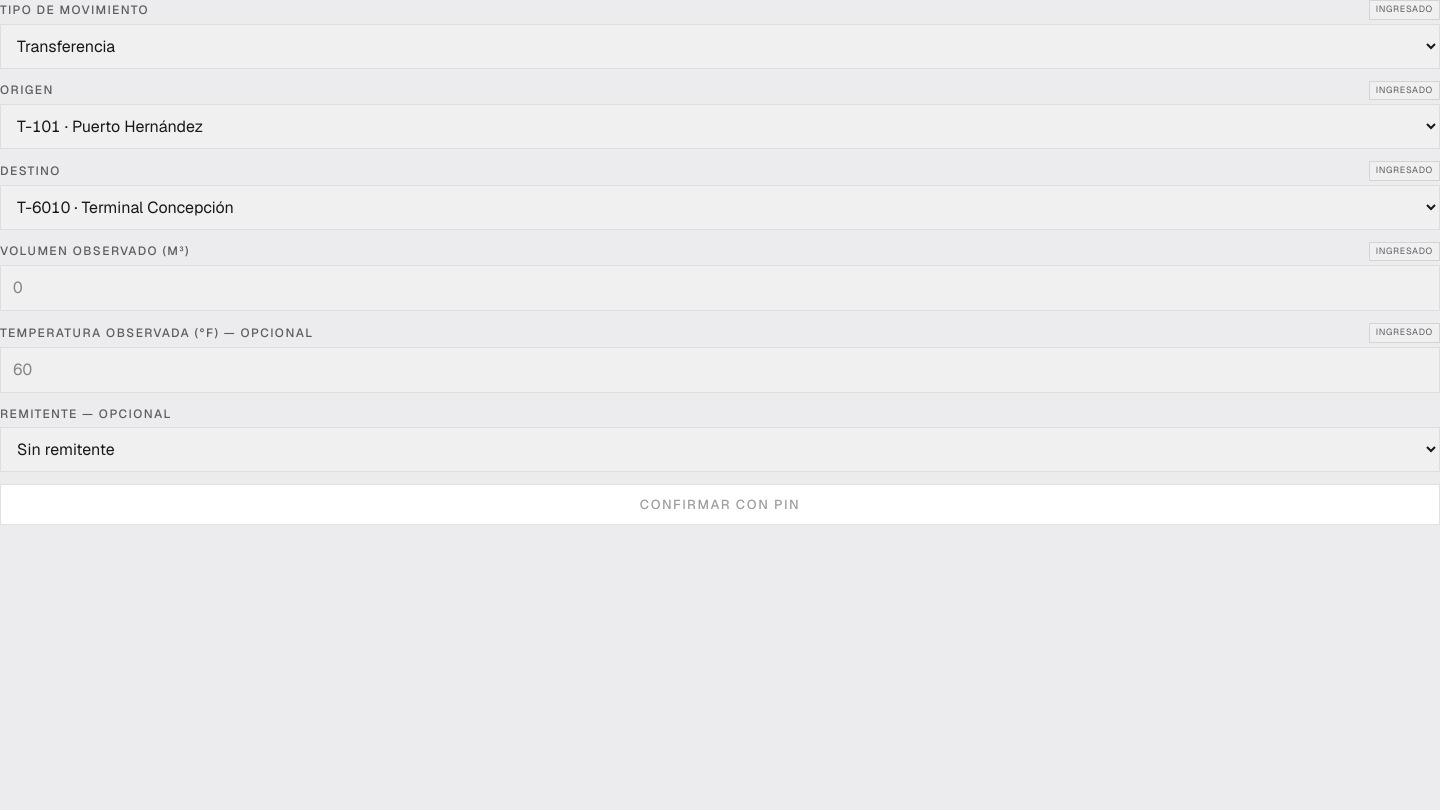
Test case: MovementForm › commits a valid movement after PIN and moves both tank levels live
Type "5000" into the field labelled "Volumen observado (m³)". click: (720, 288)
box: [0,265,1439,311]
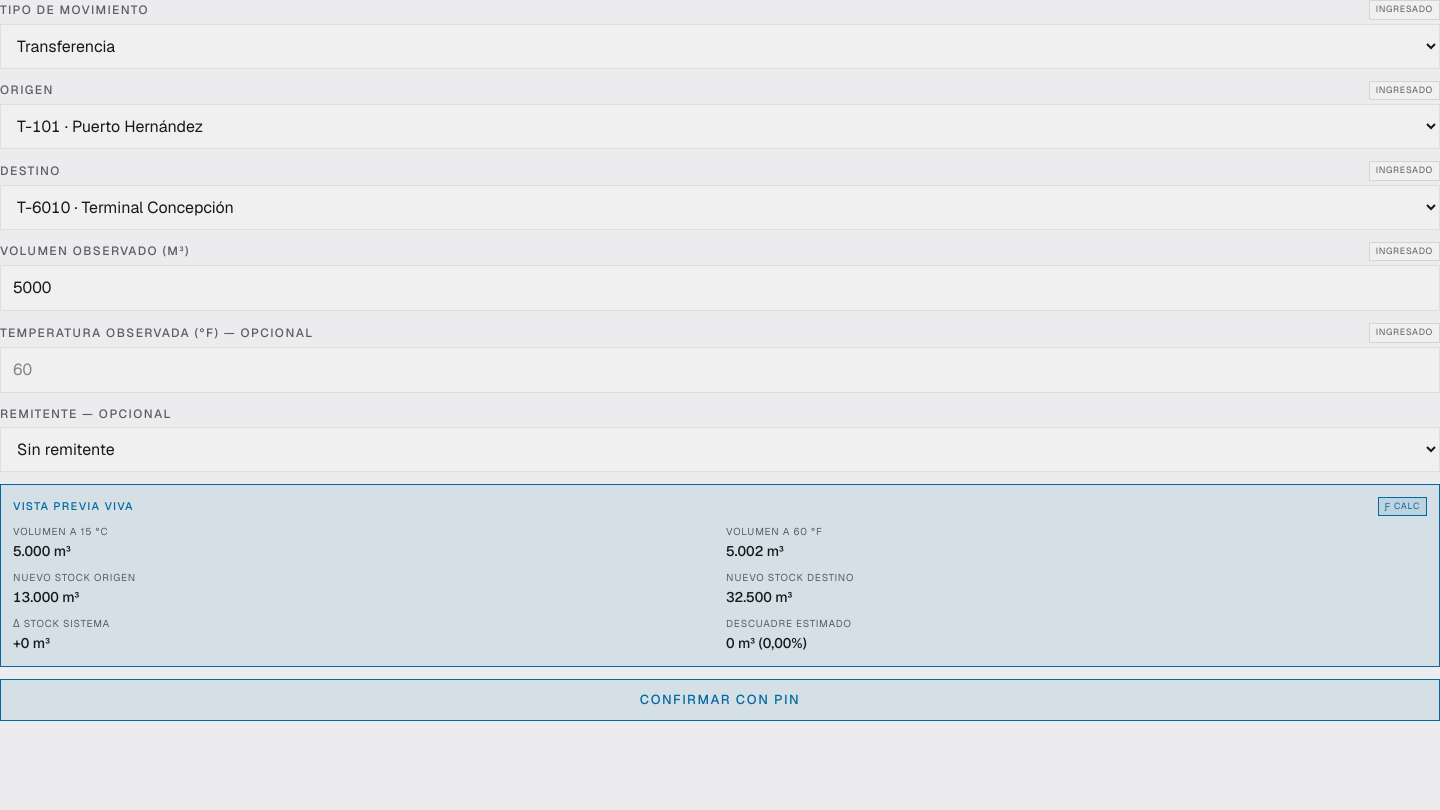
Expected: the button "Confirmar con PIN" is enabled
Click the button "Confirmar con PIN". click: (720, 700)
box: [0,679,1439,720]
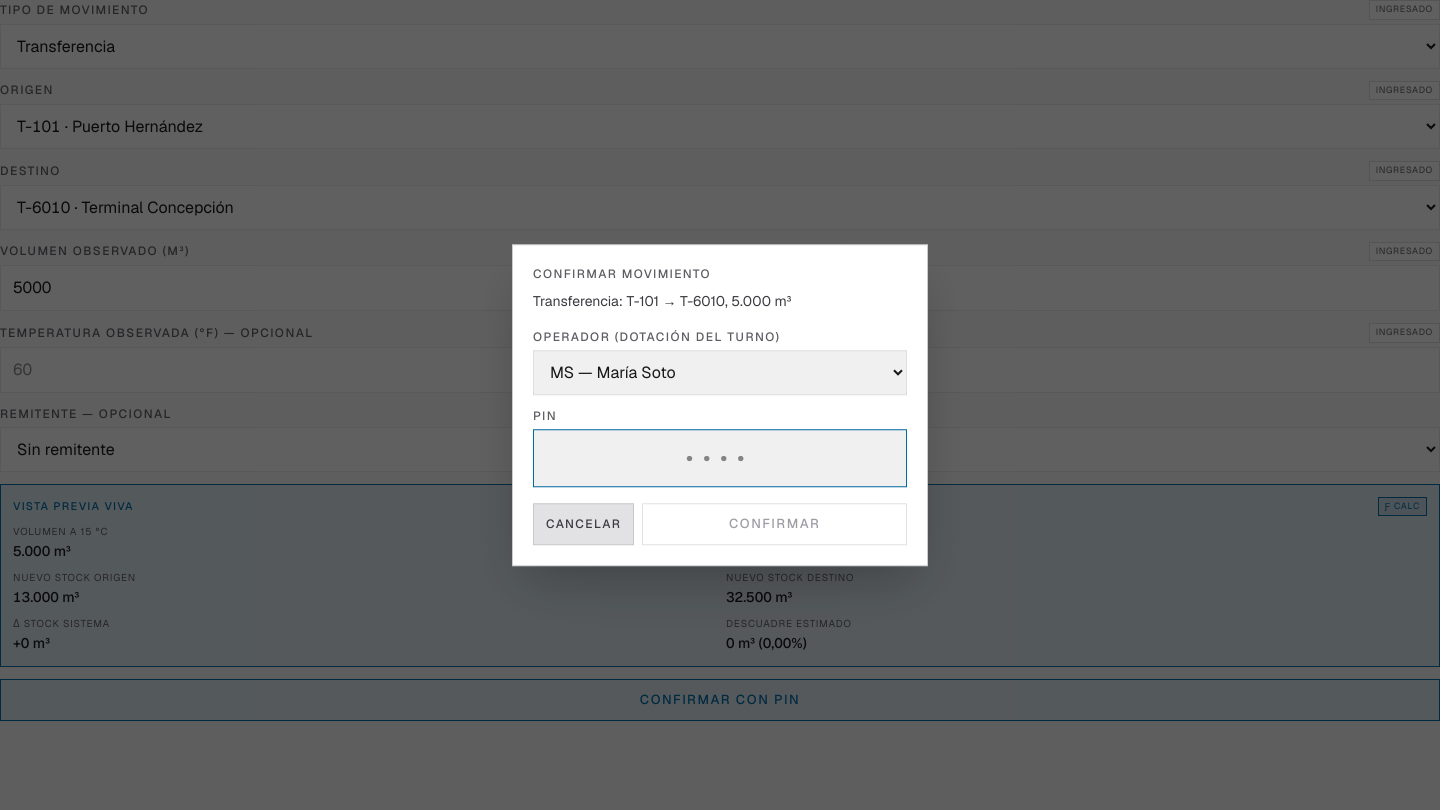
Type "0580" into the password field labelled "PIN". click: (720, 458)
box: [533,429,907,487]
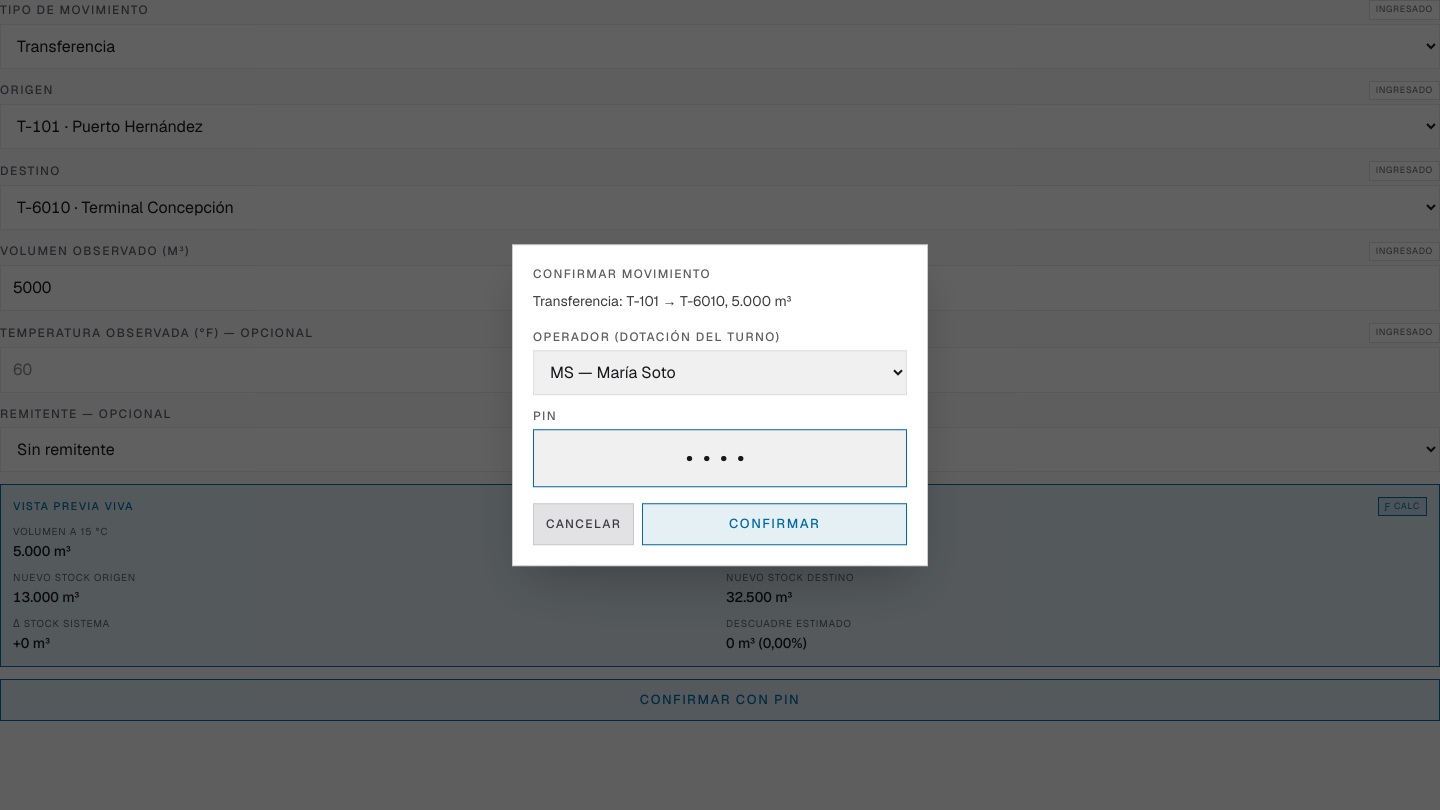
Click the button "Confirmar". click: (775, 524)
box: [642,503,907,545]
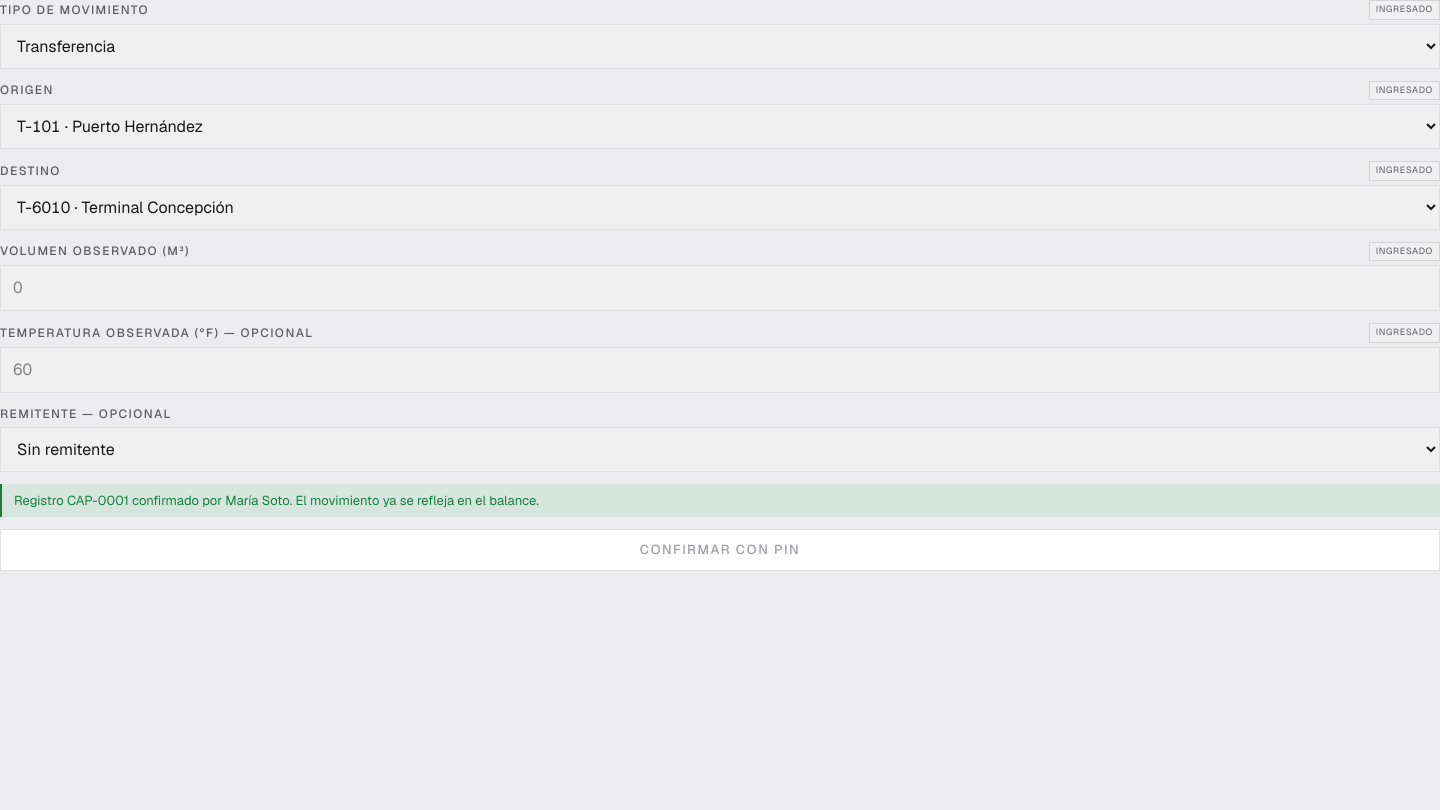
Expected: the text "CAP-0001 confirmado por María Soto" is shown, [14,492,539,508]
